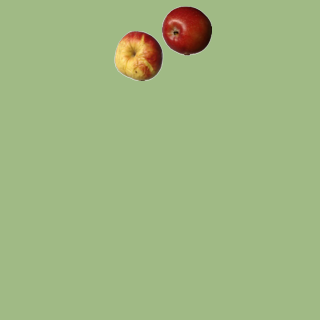Apple Braeburn: (161, 5, 211, 55)
Apple Red Yellow 1: (113, 30, 163, 80)
